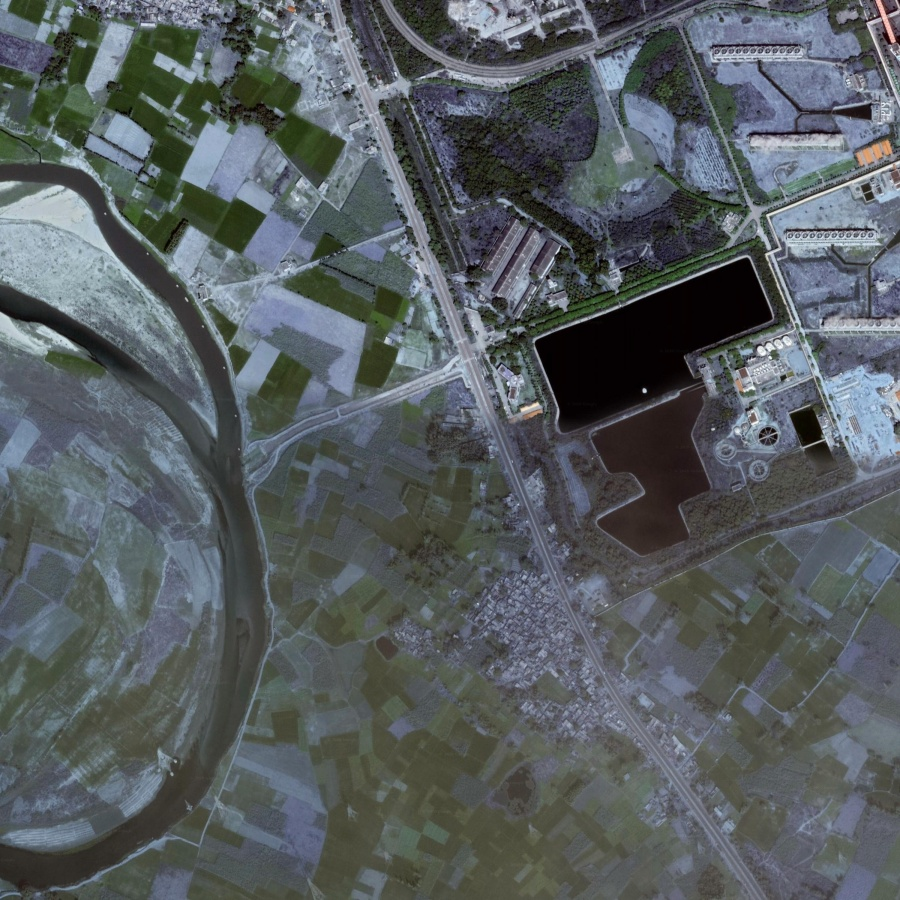PowerPlant: (514, 248, 784, 476)
